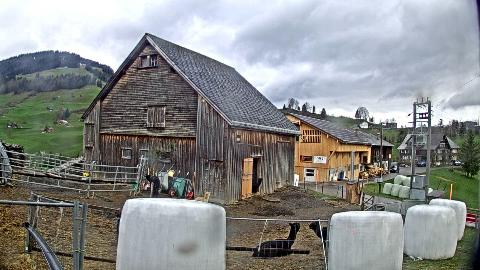car: (390, 165, 400, 173), (418, 161, 426, 167), (455, 160, 463, 166)
sheep: (253, 222, 300, 260), (310, 221, 330, 247), (144, 174, 160, 198), (250, 176, 264, 194), (194, 191, 212, 203)
